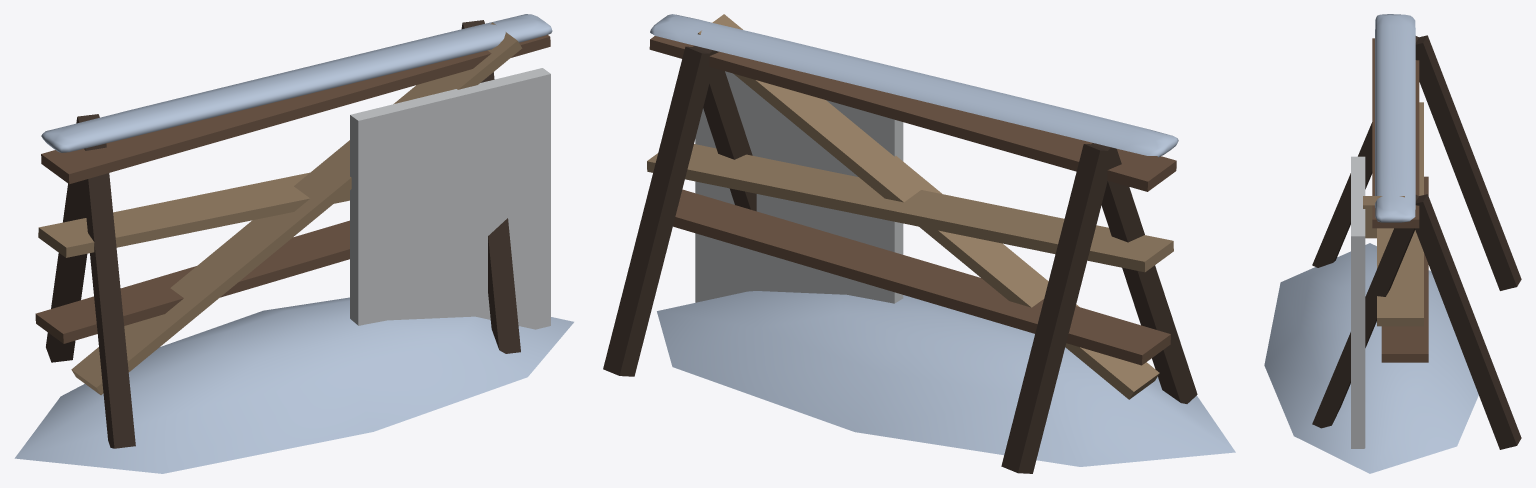
Rendered from barricade_wood.glb.
3 views of the same model, side by side, from view 1: azimuth 30°, elevation 25°; view 2: azimuth 150°, elevation 25°; view 3: azimuth 270°, elevation 25° (orthographic). The views are drawn at different scales.
Visible parts, largest first — view 1: Prop; view 2: Prop; view 3: Prop.
Part boxes in pixels (x1,y1,x2,y2): Prop: [14, 14, 573, 473]; Prop: [603, 14, 1235, 473]; Prop: [1264, 14, 1521, 473].
Size of the model in its own units: 2.33 by 1.19 by 1.1.
